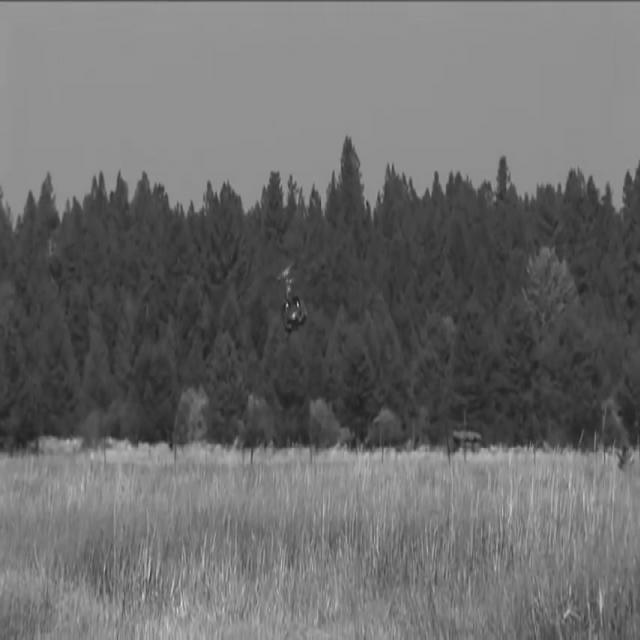helikopter: (255, 255, 327, 358)
